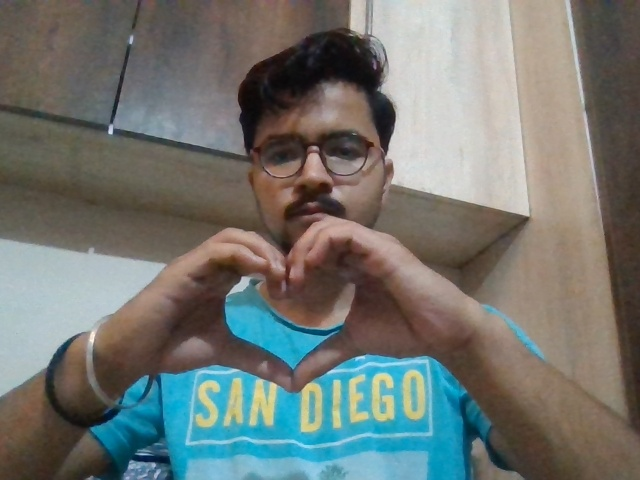iloveyou: (113, 195, 473, 376)
